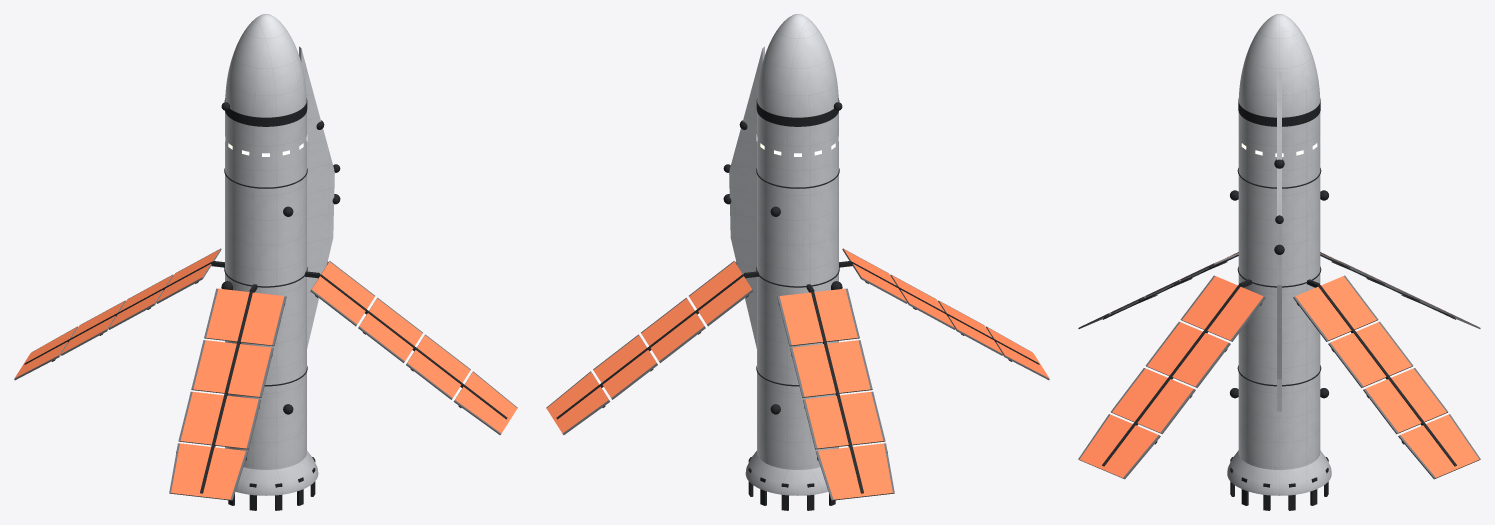
The model's file is illuminus_courier.glb.
The picture shows the model from 3 angles, left to right: view 1: azimuth 30°, elevation 25°; view 2: azimuth 150°, elevation 25°; view 3: azimuth 270°, elevation 25°; orthographic projection.
Visible parts, largest first — view 1: IlluminusCourier_Hull, IlluminusCourier_Radiators; view 2: IlluminusCourier_Hull, IlluminusCourier_Radiators; view 3: IlluminusCourier_Hull, IlluminusCourier_Radiators.
Boxes of the visible parts, box(x1,y1,x2,y2) form: IlluminusCourier_Hull: box(221, 14, 340, 510); IlluminusCourier_Radiators: box(14, 248, 517, 500); IlluminusCourier_Hull: box(723, 14, 842, 510); IlluminusCourier_Radiators: box(546, 248, 1049, 500); IlluminusCourier_Hull: box(1227, 14, 1331, 510); IlluminusCourier_Radiators: box(1078, 252, 1480, 479).
Bounding box in the file's own units: 44.34 × 57.8 × 44.34.
12 materials, 5 textured.
